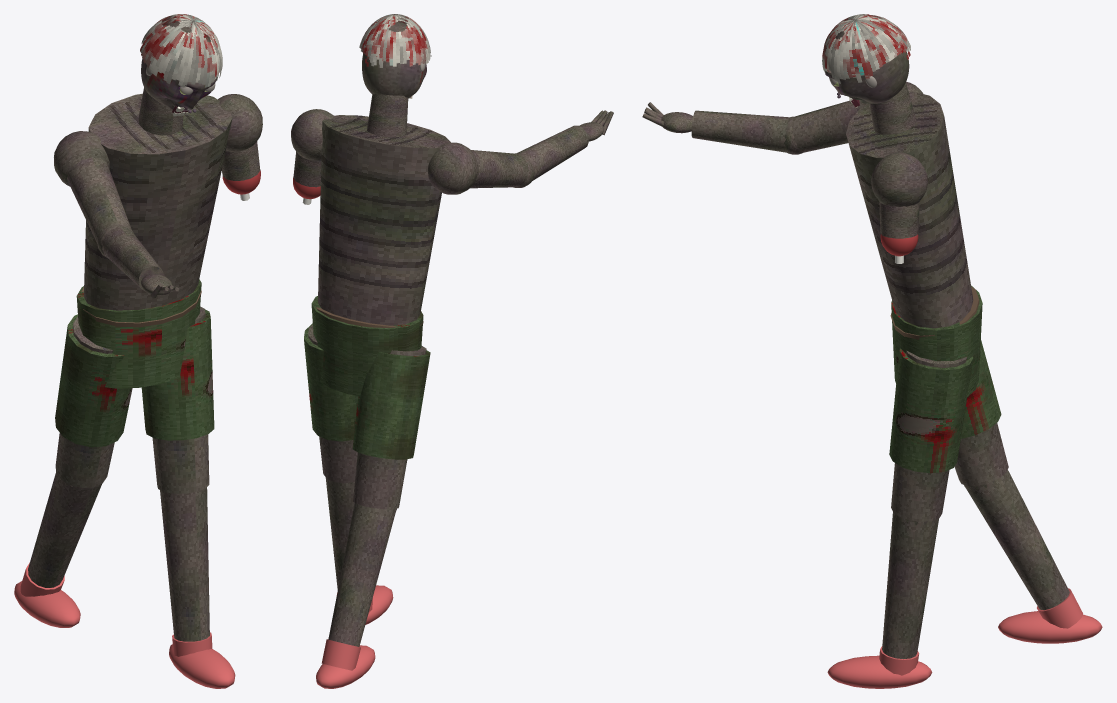
Rendered from Zombie_056.glb.
The picture shows the model from 3 angles, left to right: view 1: azimuth 30°, elevation 25°; view 2: azimuth 150°, elevation 25°; view 3: azimuth 270°, elevation 25°; orthographic projection. The views are drawn at different scales.
Visible parts, largest first — view 1: Zombie_056, object 36, object 3, object 9, object 4, object 35; view 2: Zombie_056, object 36, object 9, object 3; view 3: Zombie_056, object 36, object 3, object 9.
Boxes of the visible parts, left/top/right/bottom form: Zombie_056: left=14, top=87, right=262, bottom=688; object 36: left=140, top=14, right=222, bottom=87; object 3: left=102, top=227, right=164, bottom=291; object 9: left=141, top=22, right=217, bottom=111; object 4: left=141, top=274, right=172, bottom=295; object 35: left=141, top=17, right=218, bottom=87; Zombie_056: left=291, top=94, right=529, bottom=688; object 36: left=359, top=14, right=431, bottom=64; object 9: left=362, top=22, right=426, bottom=98; object 3: left=517, top=125, right=588, bottom=180; Zombie_056: left=791, top=81, right=1102, bottom=688; object 36: left=822, top=14, right=910, bottom=81; object 3: left=691, top=110, right=788, bottom=152; object 9: left=825, top=31, right=909, bottom=103.
Size of the model in its own units: 0.6628 by 1.86 by 1.18.
18 materials, 6 textured.
